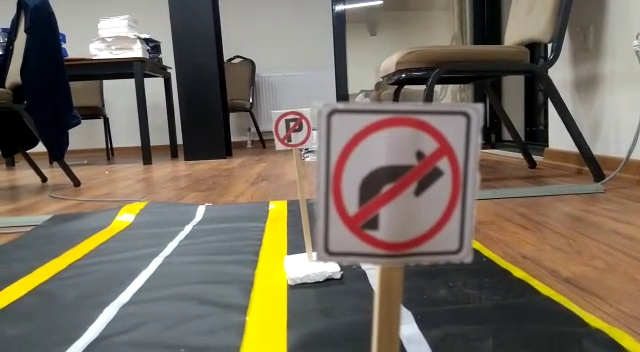park_yapilmaz: (271, 109, 313, 149)
saga_donulmez: (331, 108, 466, 256)
